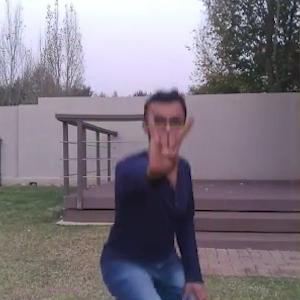takeoff-hand: (139, 101, 196, 177)
